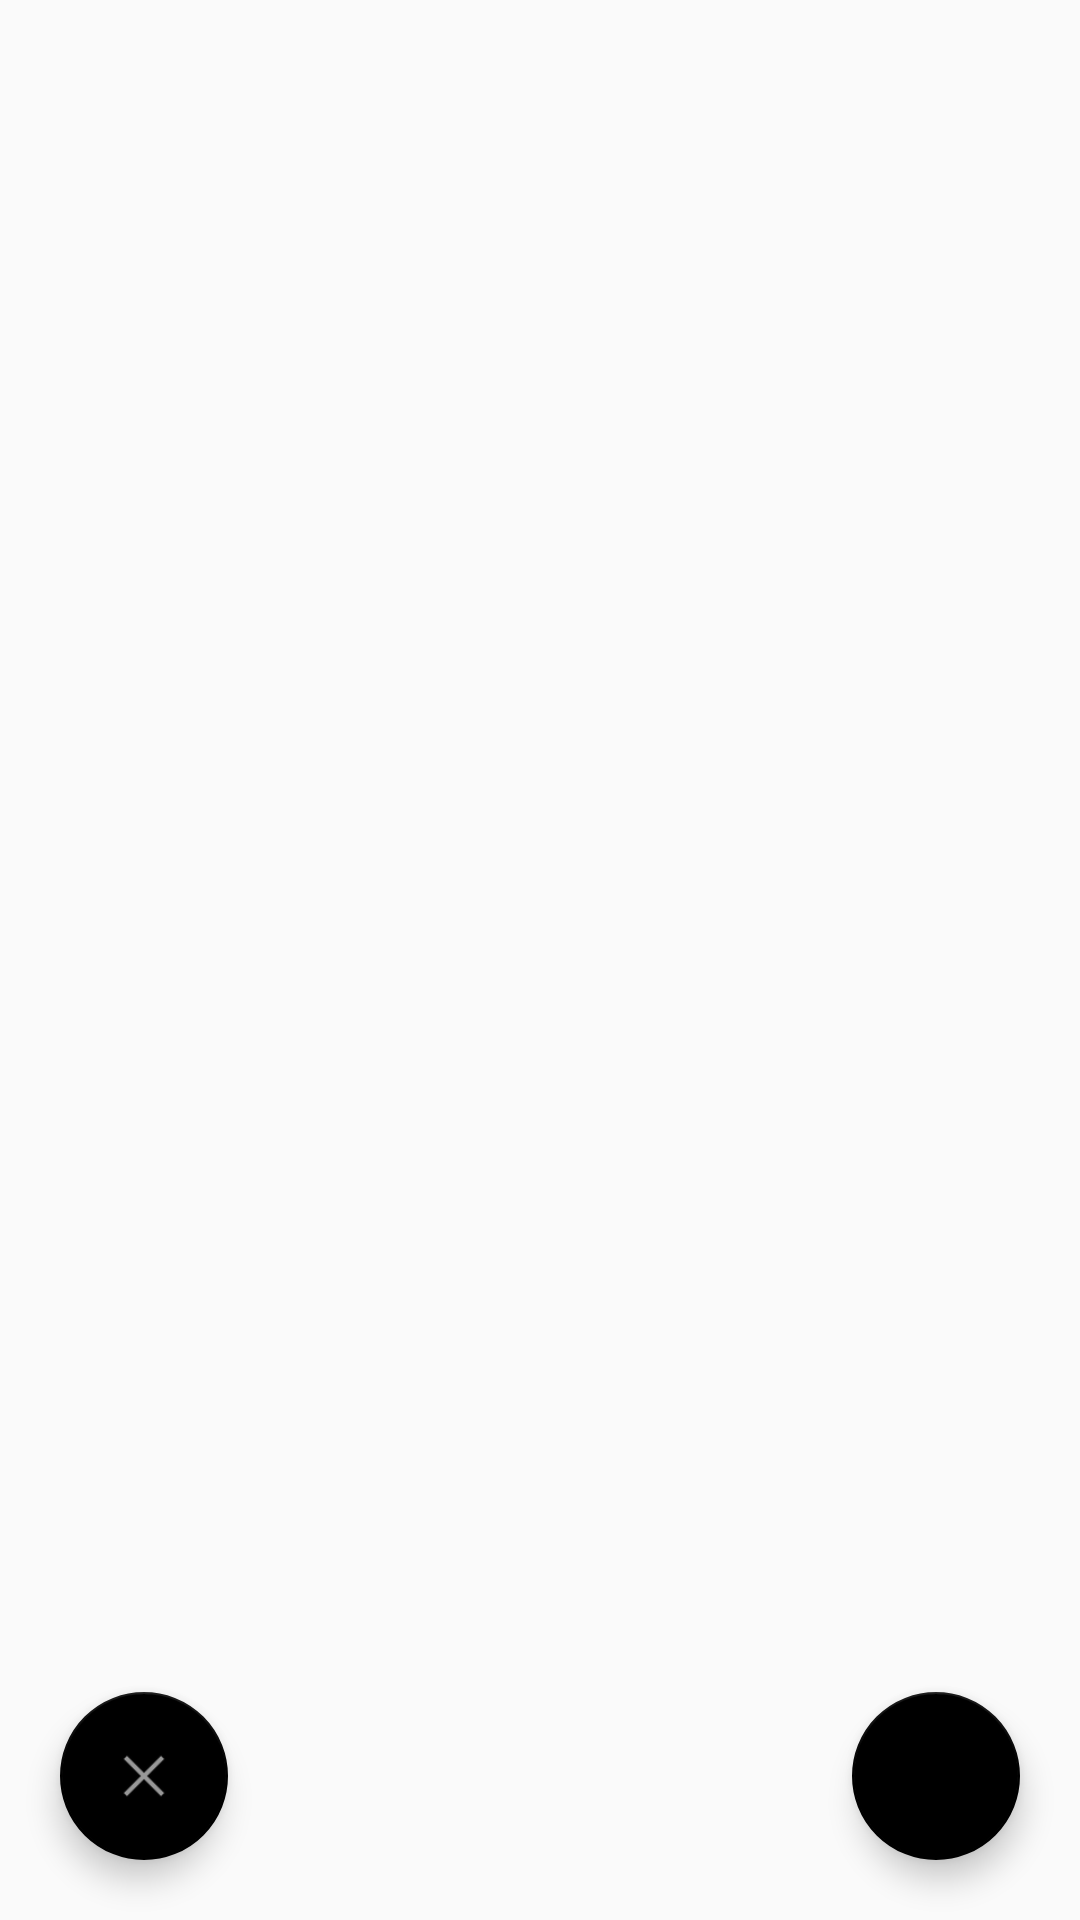

Named icons in this screenshot (1080 x 1920) and their bounding boxes, (x1, y1, x2, y2):
close clear cancel: (60, 1692, 228, 1860)
